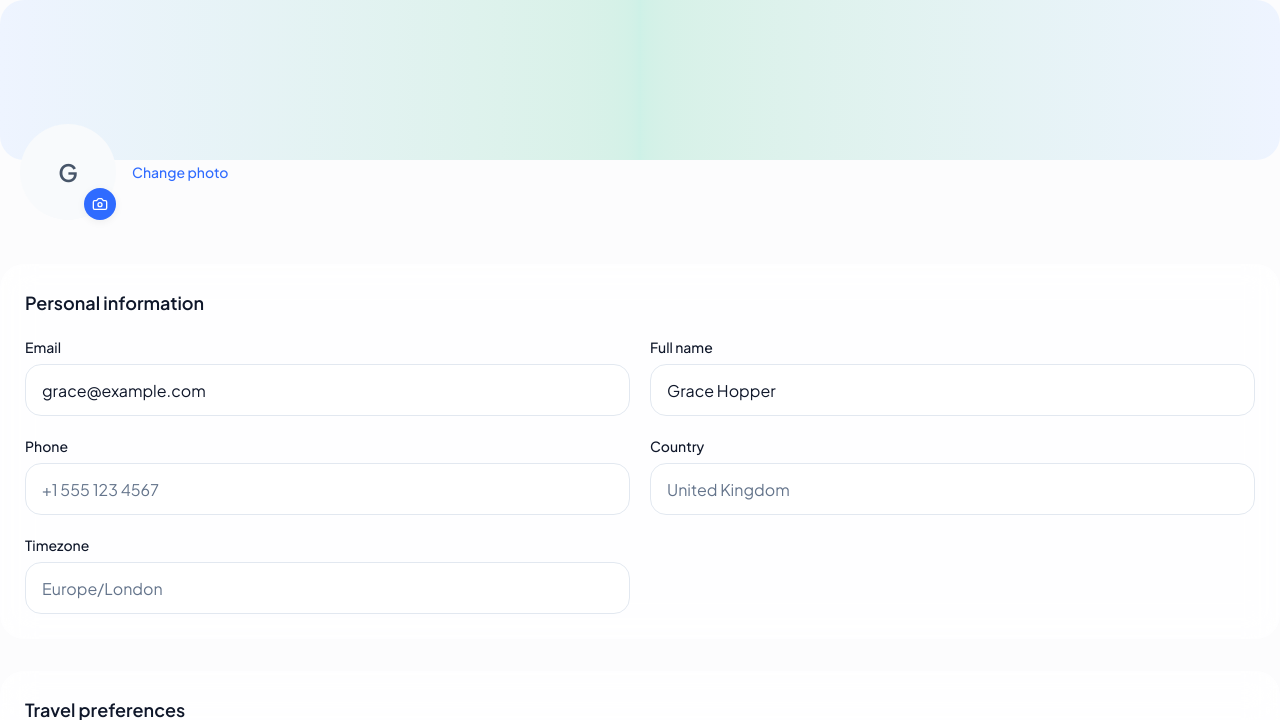
Test: ProfilePageContent › shows an error indicator if a save fails
The width and height of the screenshot is (1280, 720).
Type "12345" into the field labelled "Phone".
click(328, 489); type("12345")  # box [25, 463, 630, 515]
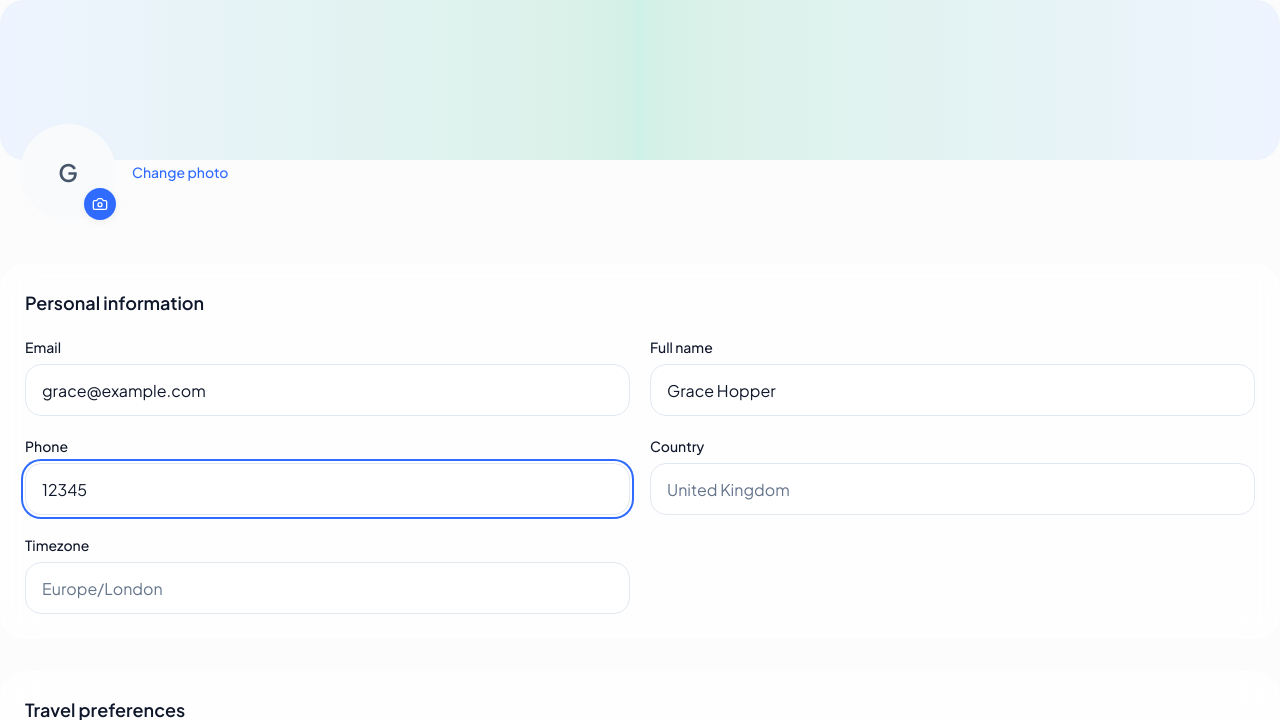
Press Tab
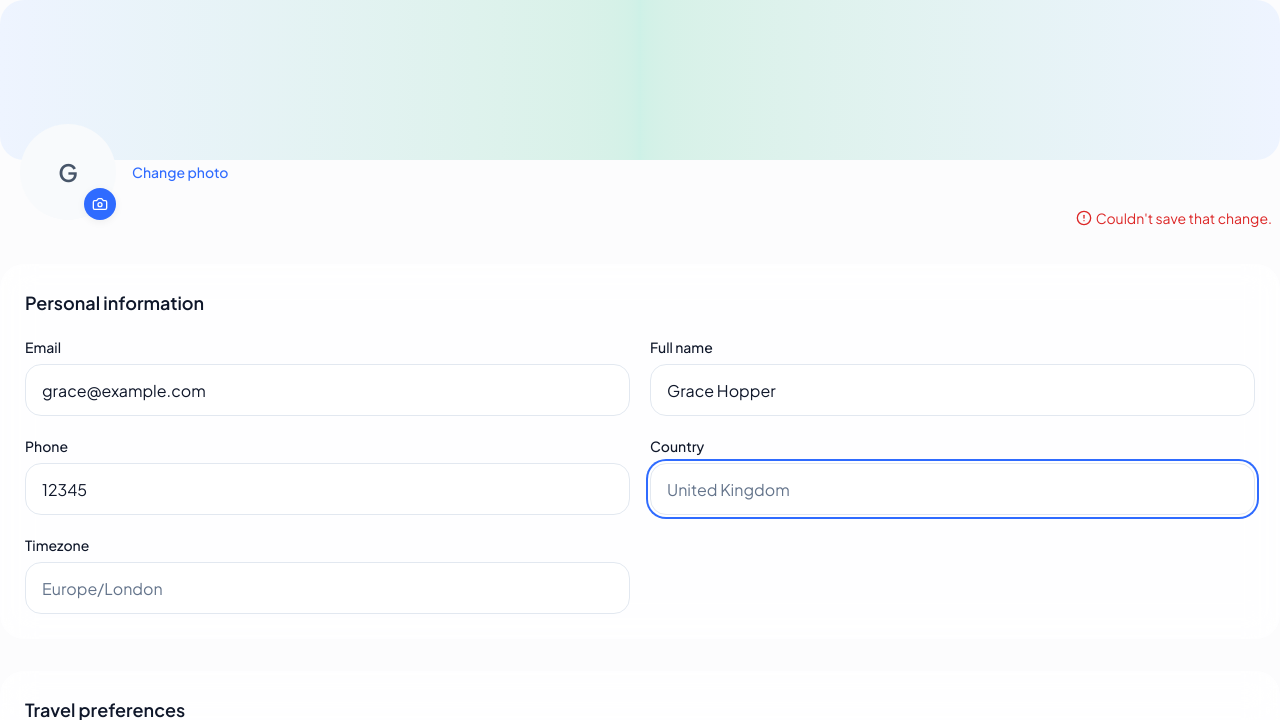
Result: the text "Couldn't save that change." is shown at [1076, 208, 1272, 228]
